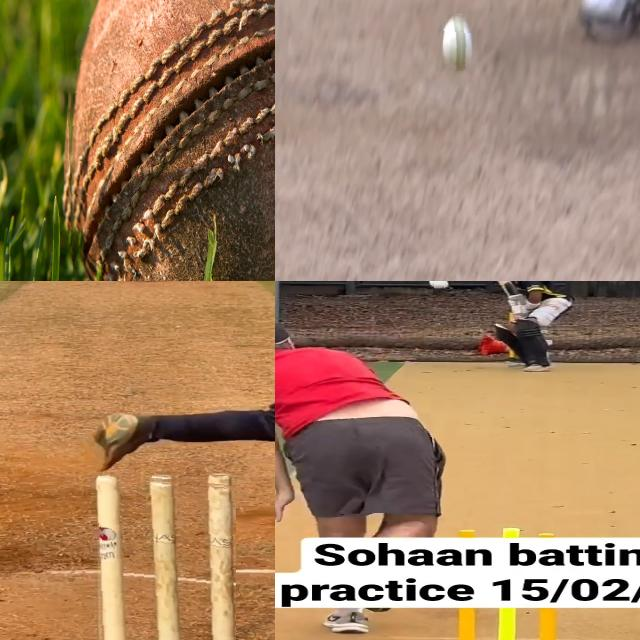Cricket ball: (61, 0, 275, 281), (442, 13, 476, 71), (427, 281, 450, 288)
Stumps: (94, 472, 236, 640), (446, 607, 569, 640)
